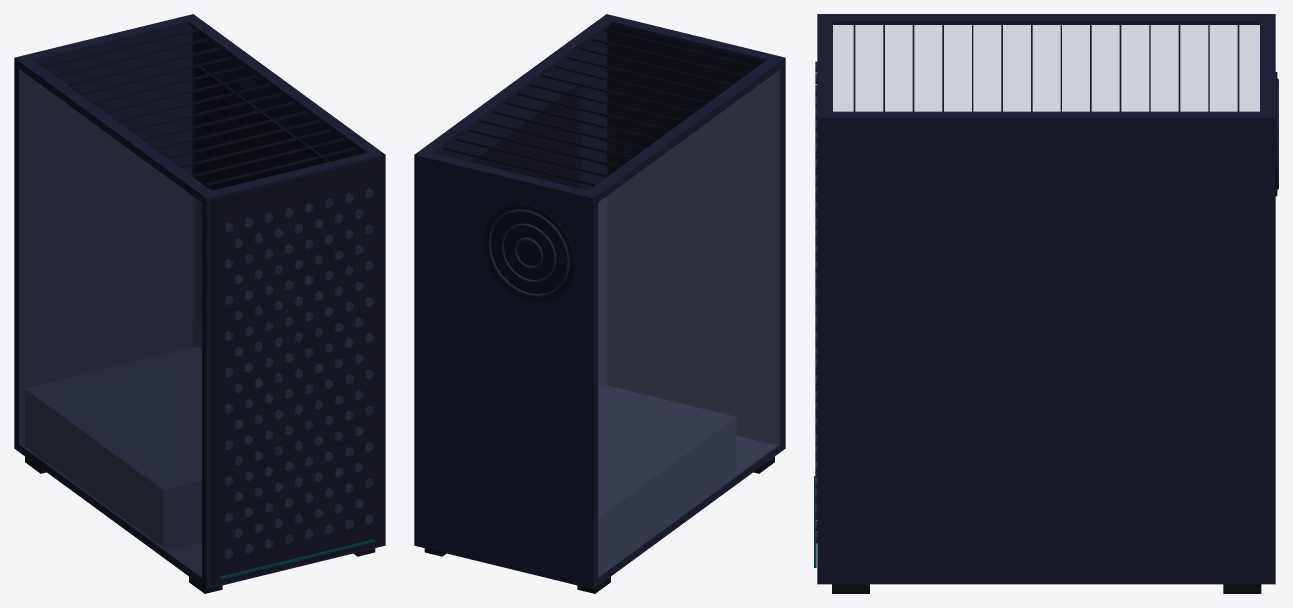
Rendered from case-airflow.glb.
3 views of the same model, side by side, from view 1: azimuth 30°, elevation 25°; view 2: azimuth 150°, elevation 25°; view 3: azimuth 270°, elevation 25° (orthographic). The views are drawn at different scales.
Visible parts, largest first — view 1: panel_glass_left, front_panel, panel_rear, psu_shroud, front_honeycomb, left_frame, top_rim, mobo_tray, top_vent_slats, panel_right, panel_bottom, front_rgb_line; view 2: panel_glass_left, panel_rear, front_panel, psu_shroud, panel_right, left_frame, top_rim, top_vent_slats, rear_fan_cutout, mobo_tray, rear_fan_grill, panel_bottom; view 3: panel_right, panel_glass_left, top_rim, top_vent_slats, panel_bottom, front_honeycomb, feet.
Part boxes in pixels (x1,y1,x2,y2): panel_glass_left: [20, 70, 201, 576]; front_panel: [208, 157, 383, 586]; panel_rear: [21, 25, 192, 445]; psu_shroud: [25, 346, 201, 551]; front_honeycomb: [224, 188, 373, 558]; left_frame: [14, 57, 208, 589]; top_rim: [15, 14, 385, 201]; mobo_tray: [196, 67, 330, 327]; top_vent_slats: [43, 29, 356, 186]; panel_right: [192, 28, 385, 543]; panel_bottom: [24, 445, 385, 588]; front_rgb_line: [219, 539, 374, 579]; panel_glass_left: [598, 70, 780, 576]; panel_rear: [416, 155, 592, 588]; front_panel: [607, 25, 778, 445]; psu_shroud: [598, 383, 736, 575]; panel_right: [414, 28, 607, 543]; left_frame: [591, 57, 785, 589]; top_rim: [414, 14, 784, 200]; top_vent_slats: [443, 29, 756, 186]; rear_fan_cutout: [483, 204, 574, 301]; mobo_tray: [469, 82, 580, 188]; rear_fan_grill: [488, 209, 569, 296]; panel_bottom: [414, 436, 775, 587]; panel_right: [817, 122, 1275, 581]; panel_glass_left: [833, 25, 1259, 111]; top_rim: [817, 14, 1275, 122]; top_vent_slats: [853, 23, 1239, 111]; panel_bottom: [817, 581, 1275, 584]; front_honeycomb: [815, 61, 817, 543]; feet: [832, 584, 1261, 593].
Bounding box in the file's own units: 221 × 472 × 416.
